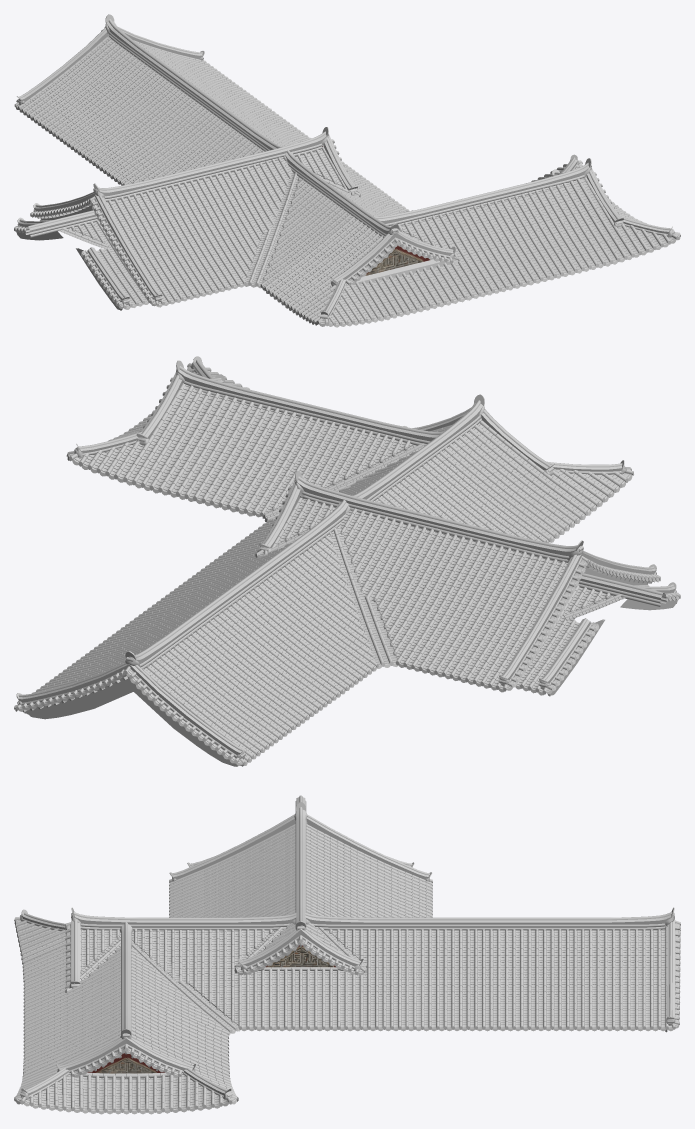
File: SM_Roof11C.fbx
3 renders of one model, top to bottom at view 1: azimuth 30°, elevation 25°; view 2: azimuth 150°, elevation 25°; view 3: azimuth 270°, elevation 25°, orthographic. The views are drawn at different scales.
Parts seen in each view (by area): view 1: SM_Roof11C; view 2: SM_Roof11C; view 3: SM_Roof11C.
Part boxes in pixels (<box>): SM_Roof11C: <box>14,14,680,327</box>; SM_Roof11C: <box>14,356,680,766</box>; SM_Roof11C: <box>14,795,680,1114</box>.
Bounding box in the file's own units: 2536 × 2676 × 392.
